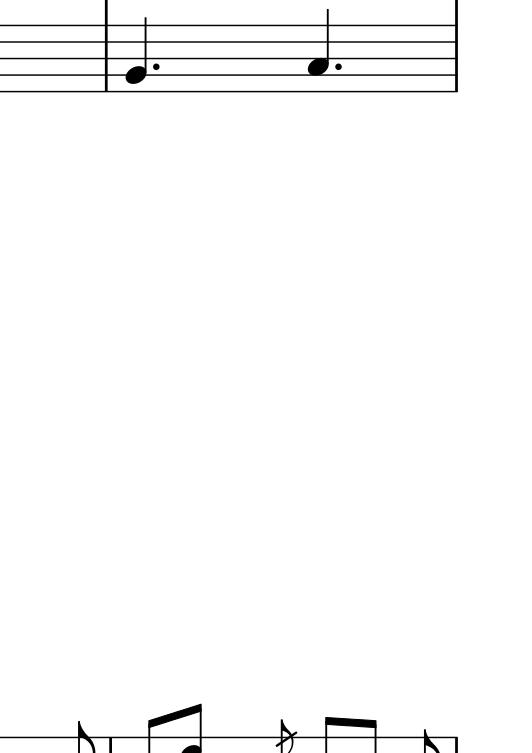4_2: (125, 17, 148, 94)
4_3: (307, 7, 332, 93)
dot: (149, 61, 162, 73), (332, 60, 343, 73)
